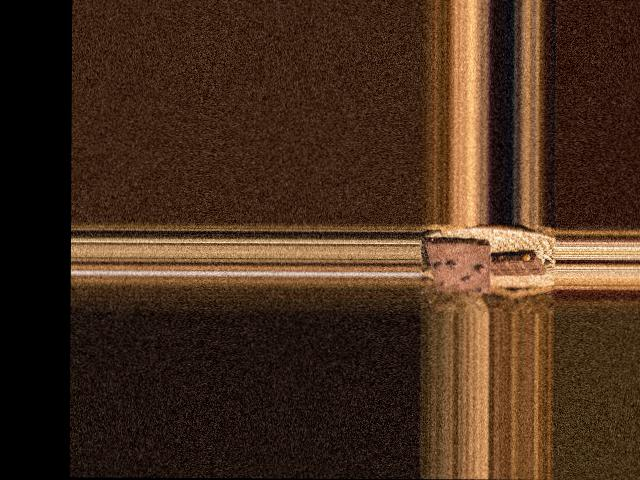chocolate: (424, 238, 494, 294)
